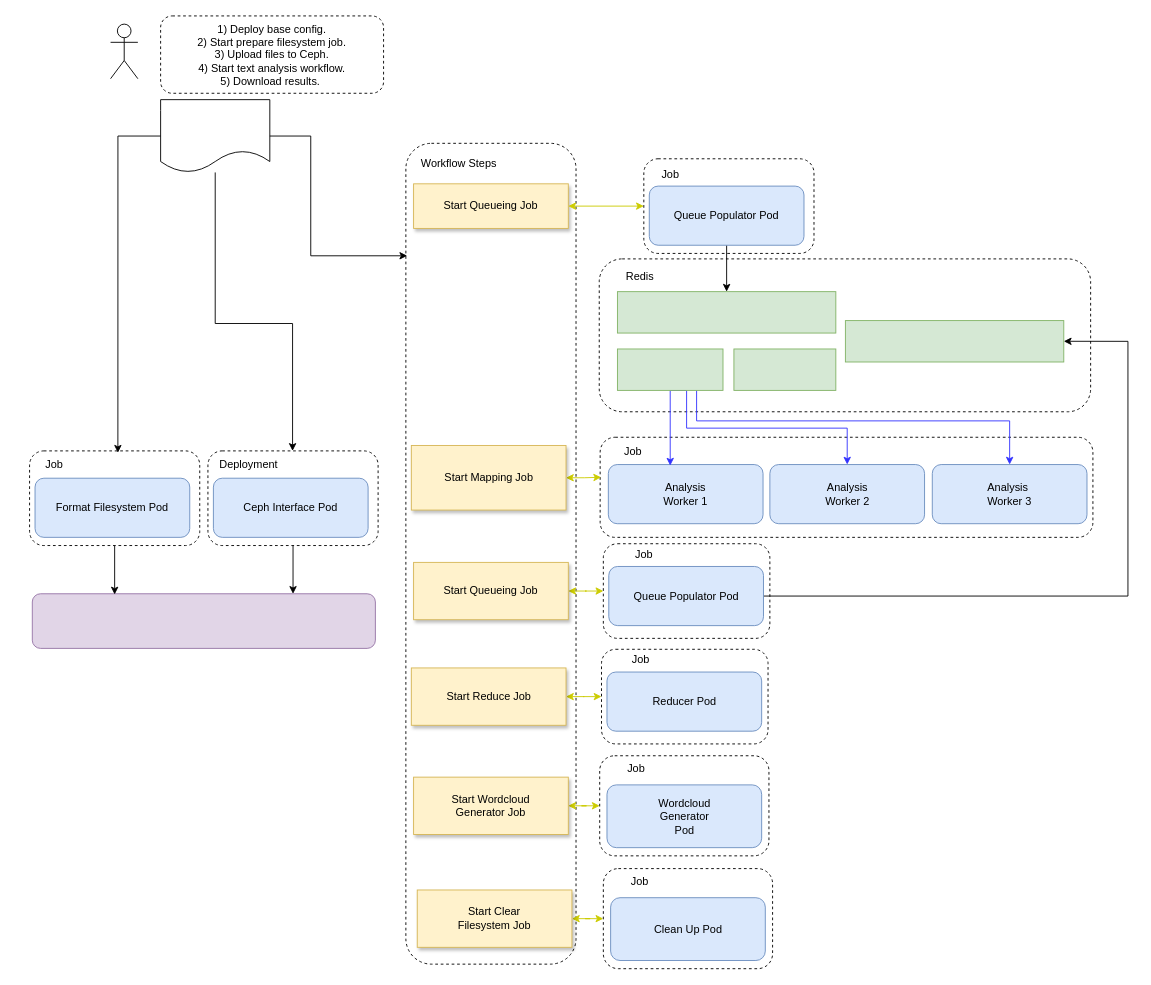
This 1151x985 diagram has some shape labels left out. Each missing label, with the centre of its shape:
"Actor" goes at point (124, 51).
"Ceph Shared File System" goes at point (203, 620).
"Dispatch Queue Master" goes at point (726, 312).
"Finished Queue Master" goes at point (954, 341).
"Kubernetes API server" goes at point (215, 135).
"Lease Queue" goes at point (784, 369).
"Processing Queue" goes at point (670, 369).
